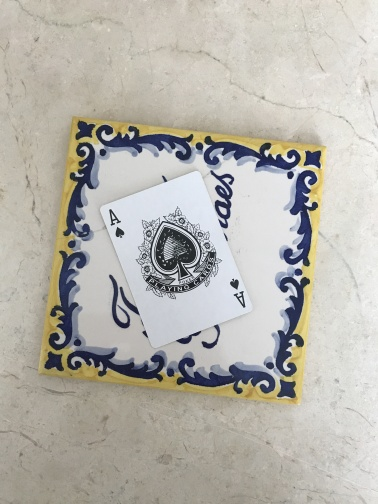ace: (99, 170, 254, 349)
